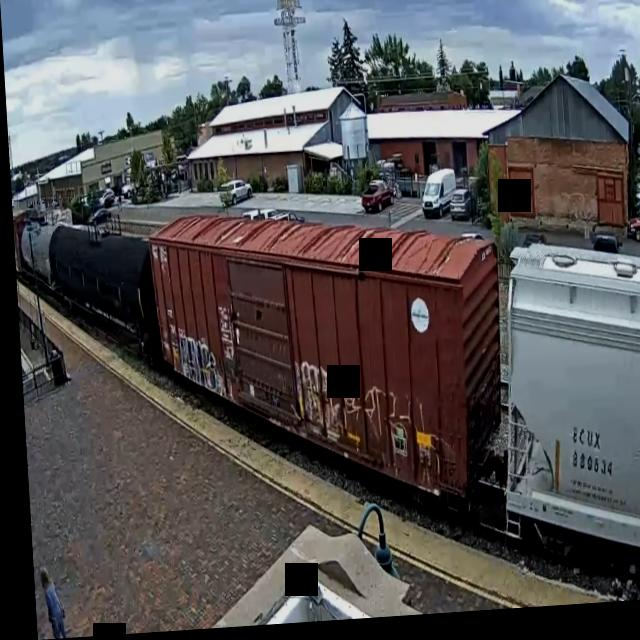boxcar: (142, 190, 514, 558)
hopper: (484, 223, 640, 610)
tank: (44, 209, 157, 382)
